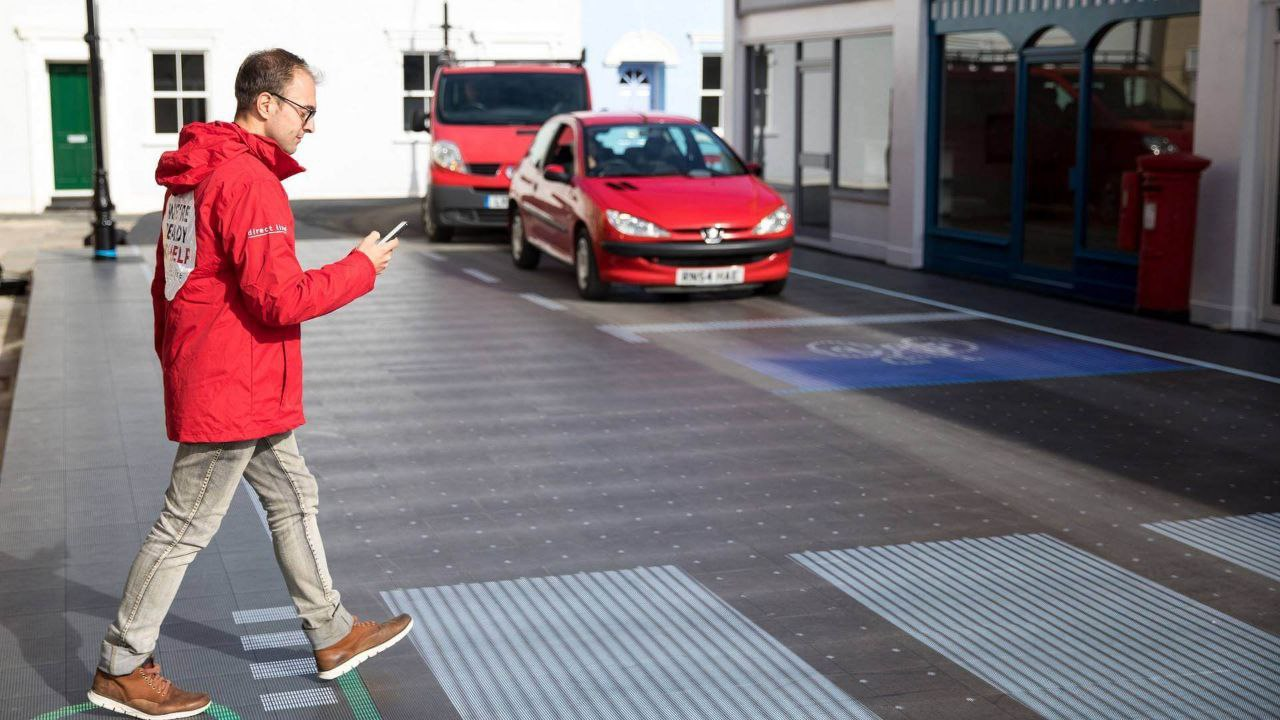sombie: (56, 43, 437, 720)
